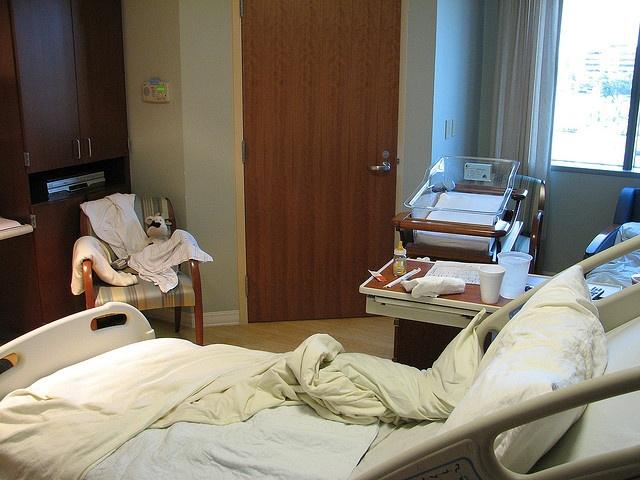Kursi: (80, 193, 204, 344)
Lemari: (0, 1, 131, 335)
